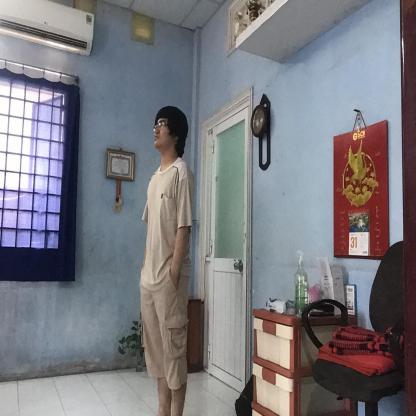person: (136, 102, 194, 413)
